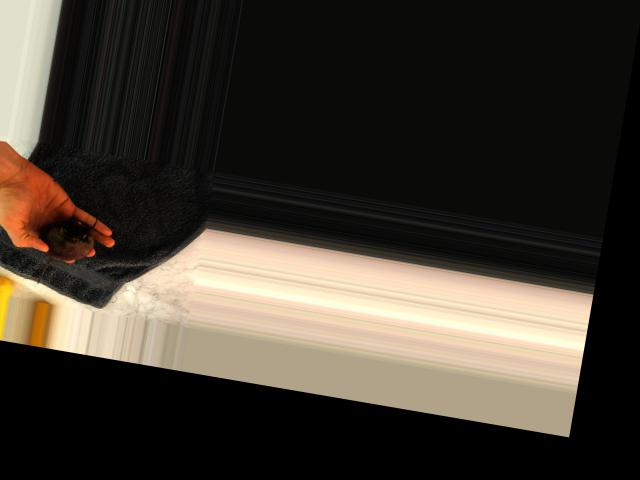beet: (31, 212, 96, 291)
